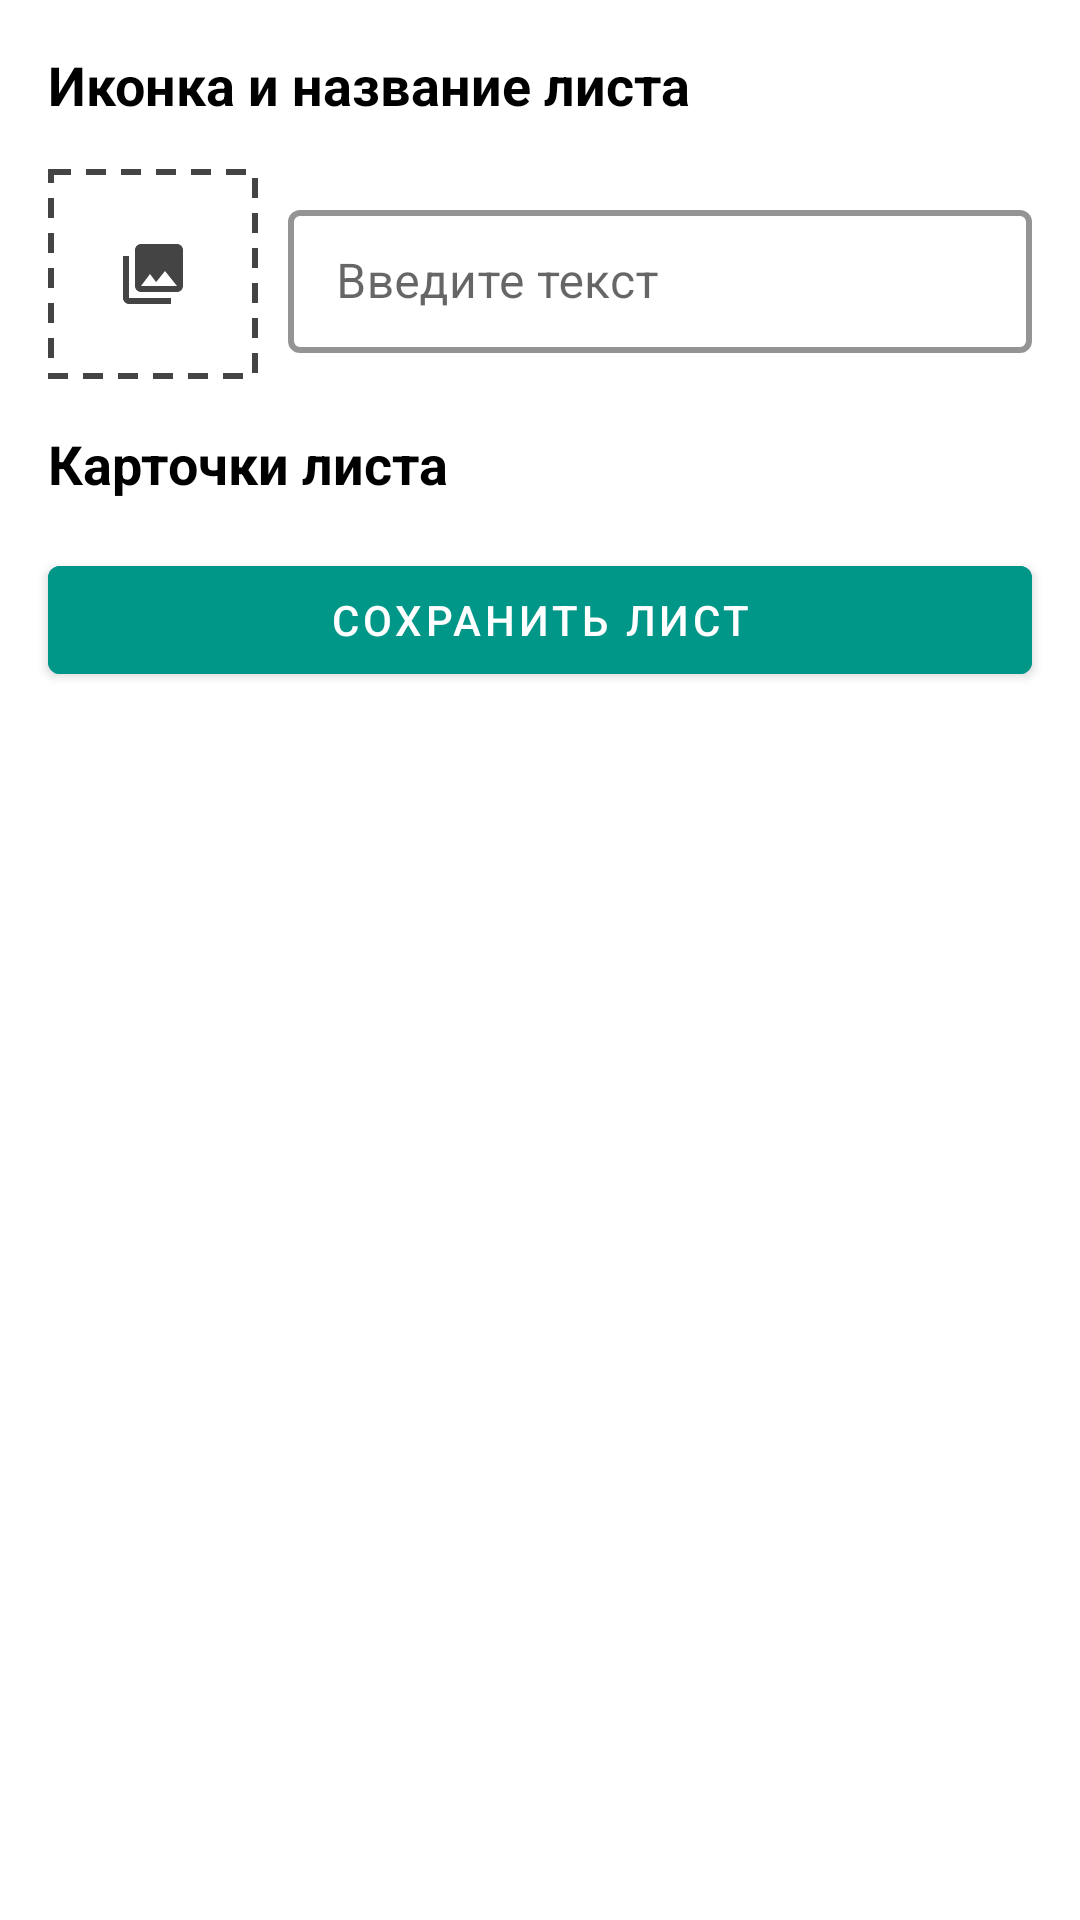

Icon click points for this 1080 × 1920 phone screenshot, format [x,y]:
photo library: [153,274]
